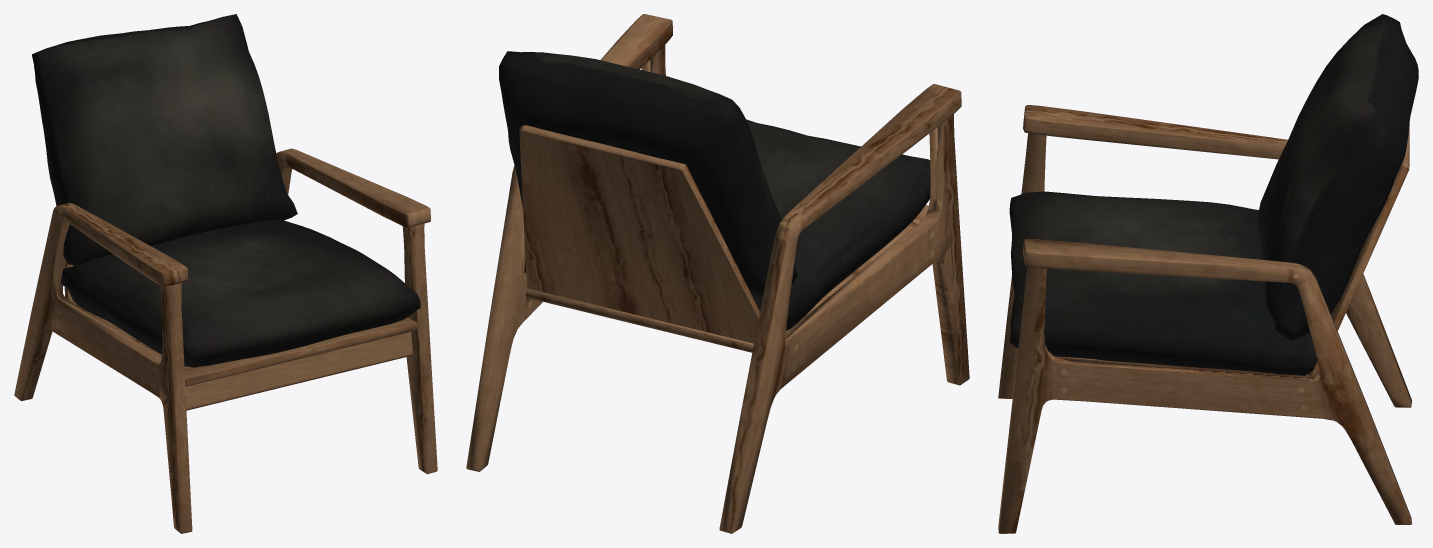
Rendered from modern_arm_chair_01.glb.
3 renders of one model, left to right at view 1: azimuth 30°, elevation 25°; view 2: azimuth 150°, elevation 25°; view 3: azimuth 270°, elevation 25°, orthographic. The views are drawn at different scales.
Parts seen in each view (by area): view 1: modern_arm_chair_01; view 2: modern_arm_chair_01; view 3: modern_arm_chair_01.
Part boxes in pixels (box(x1,y1,x2,y2)): modern_arm_chair_01: box(14, 14, 437, 533); modern_arm_chair_01: box(466, 14, 969, 533); modern_arm_chair_01: box(998, 14, 1418, 533).
Size of the model in its own units: 0.8204 by 1.02 by 0.9866.
Materials: 2 (2 with a texture image).
